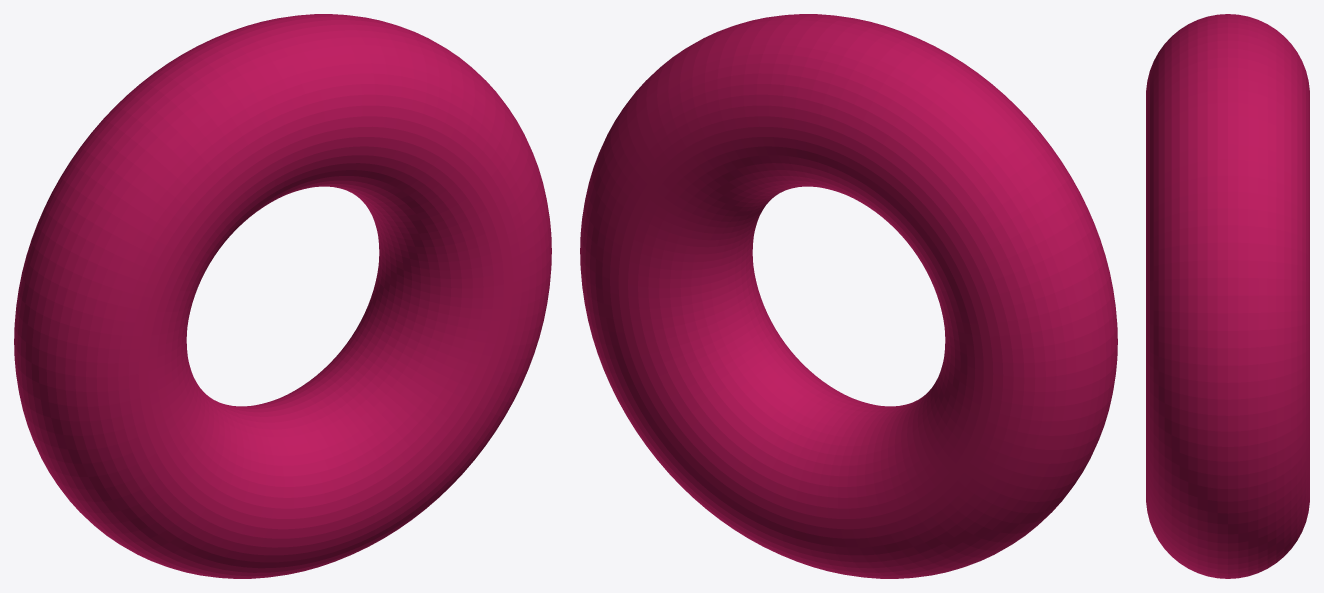
3 views of the same model, side by side, from view 1: azimuth 30°, elevation 25°; view 2: azimuth 150°, elevation 25°; view 3: azimuth 270°, elevation 25° (orthographic). The views are drawn at different scales.
Parts seen in each view (by area): view 1: world; view 2: world; view 3: world.
Boxes of the visible parts, box(x1,y1,x2,y2) form: world: box(14, 14, 551, 578); world: box(580, 14, 1117, 578); world: box(1146, 14, 1309, 578).
Bounding box in the file's own units: 19.73 × 19.73 × 5.72.
